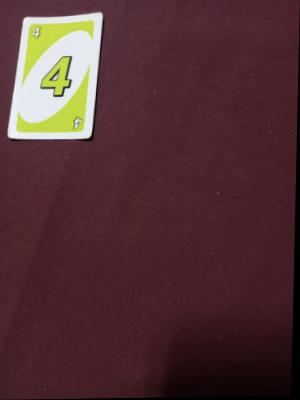num_4: (33, 54, 80, 98), (30, 27, 45, 56)
yellow: (53, 104, 88, 131)
